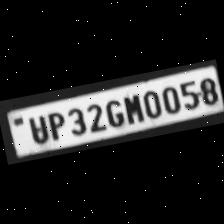0: (139, 86, 164, 120), (157, 82, 182, 116)
2: (82, 100, 107, 134)
3: (62, 104, 88, 138)
5: (176, 76, 202, 112)
8: (194, 74, 221, 108)
G: (100, 96, 125, 130)
M: (119, 90, 144, 126)
P: (42, 108, 68, 142)
U: (23, 112, 50, 146)
